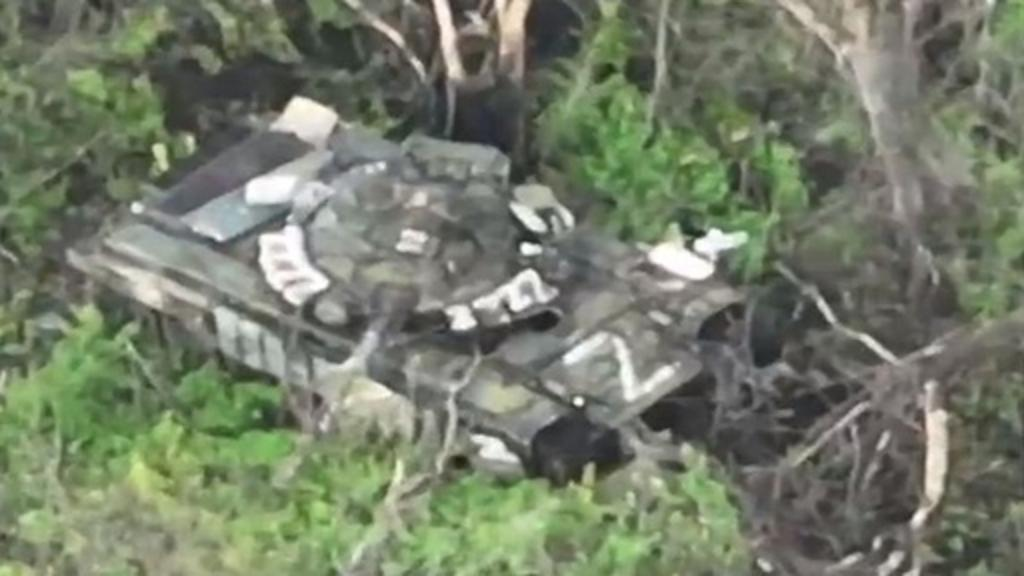TANK: (46, 76, 754, 498)
